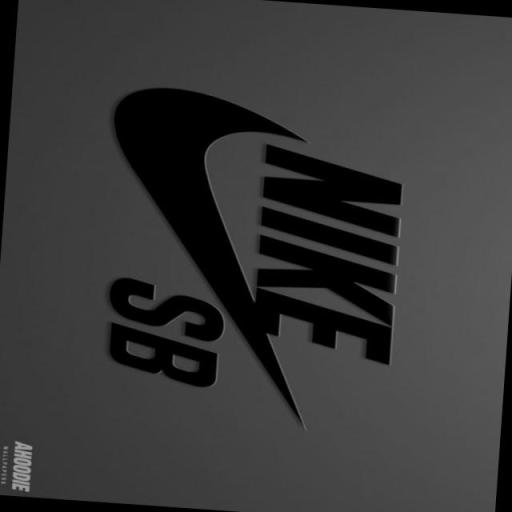Nike: (98, 90, 276, 360), (246, 144, 408, 368)
